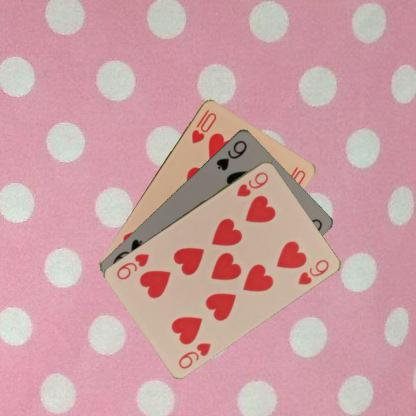10h: (188, 106, 218, 144)
9h: (176, 340, 212, 370), (233, 169, 270, 198)
9s: (214, 137, 249, 172)
